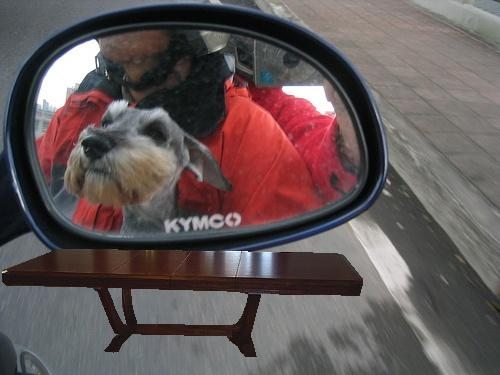tampered: (3, 250, 363, 357)
